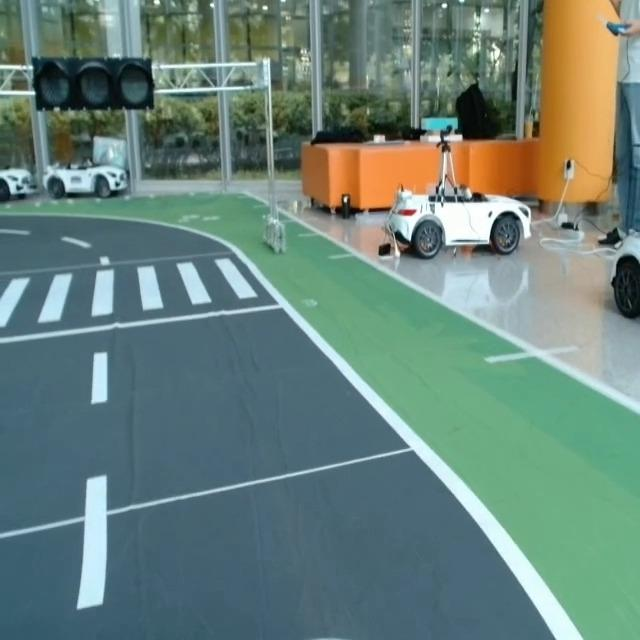traffic-light: (22, 50, 163, 115)
